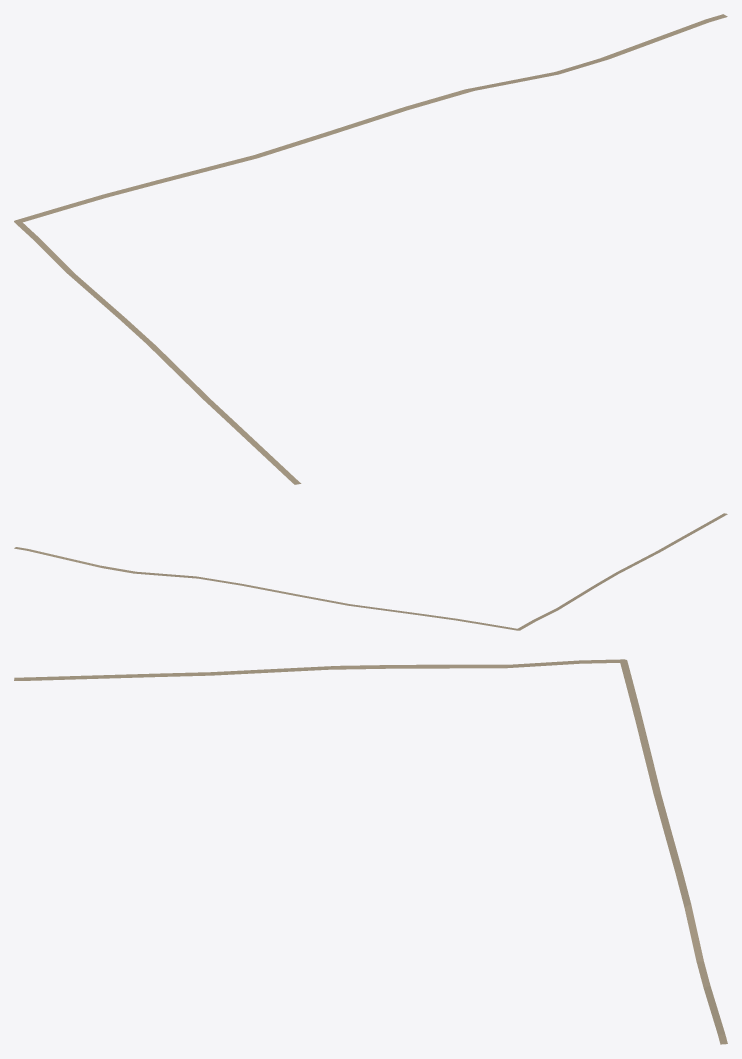
File: farm_14_9_track.glb
The picture shows the model from 3 angles, top to bottom: view 1: azimuth 30°, elevation 25°; view 2: azimuth 150°, elevation 25°; view 3: azimuth 270°, elevation 25°; orthographic projection. The views are drawn at different scales.
Parts seen in each view (by area): view 1: geometry_0; view 2: geometry_0; view 3: geometry_0.
Part boxes in pixels (box(x1,y1,x2,y2)): geometry_0: box(14, 14, 727, 484); geometry_0: box(14, 513, 727, 630); geometry_0: box(14, 659, 727, 1044).
Size of the model in its own units: 391 by 15.01 by 309.
